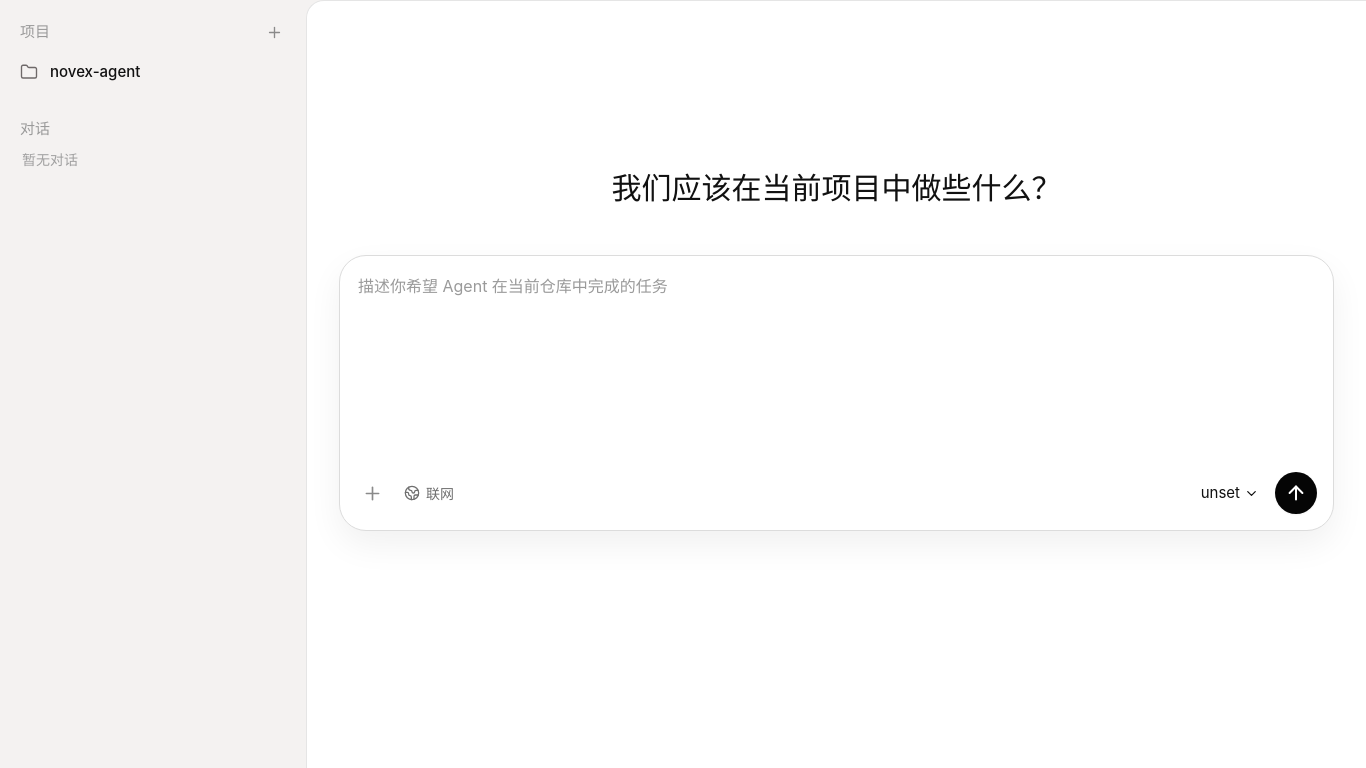
Test: Codex app POC page › creates a new project from the sidebar
Click the button named "新建项目".
click(274, 32)  # box [260, 18, 288, 46]
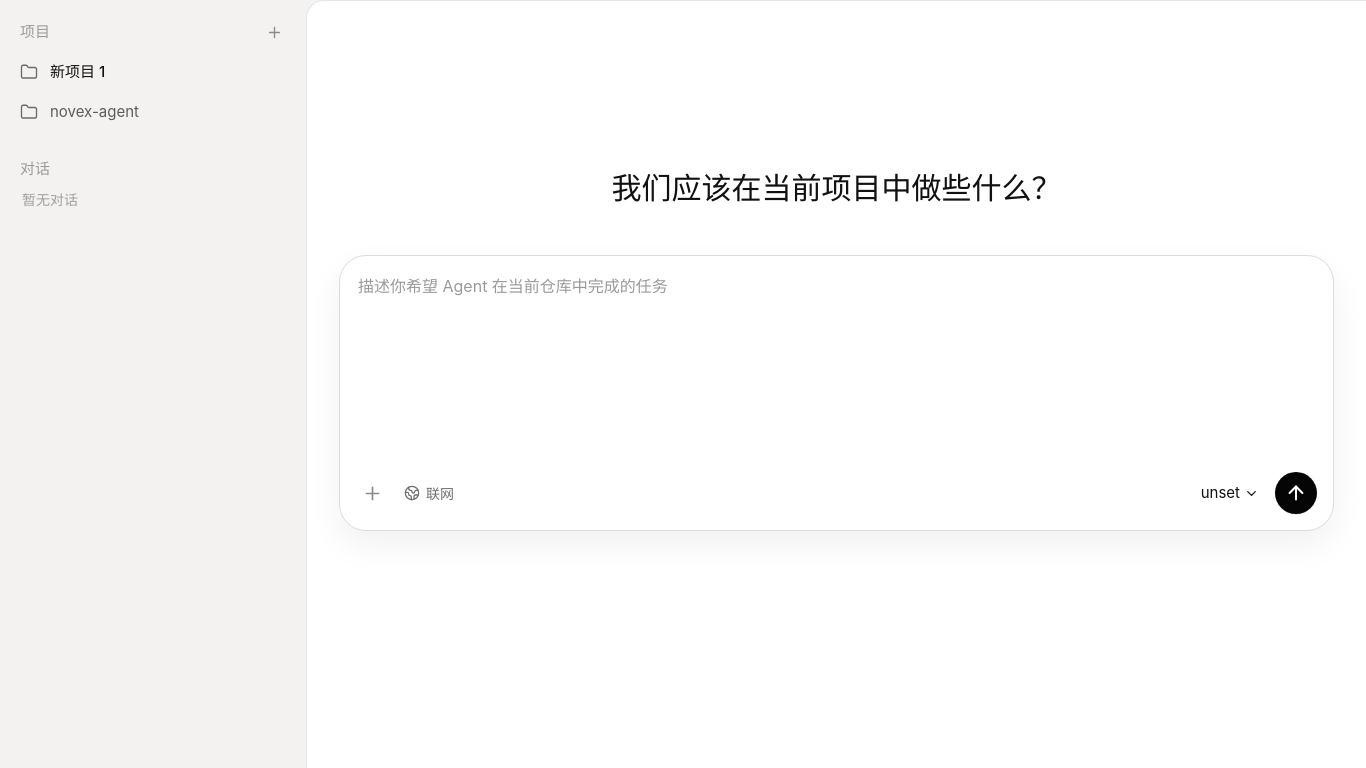
Result: the text "新项目 1" is shown at [50, 61, 105, 83]
